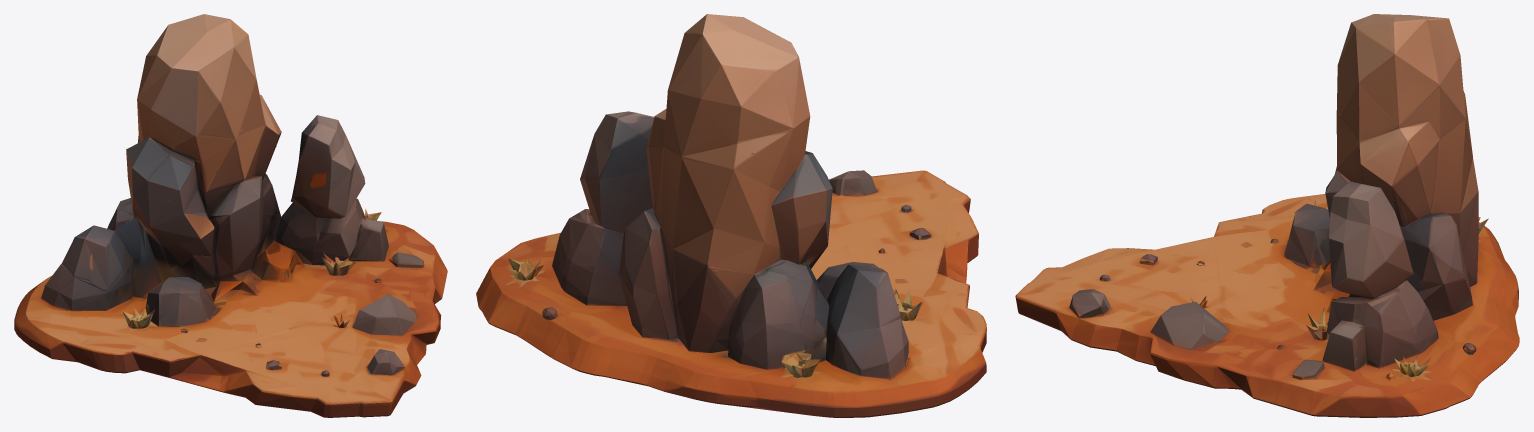
Rendered from stone_1.obj.
3 renders of one model, left to right at view 1: azimuth 30°, elevation 25°; view 2: azimuth 150°, elevation 25°; view 3: azimuth 270°, elevation 25°, orthographic. The views are drawn at different scales.
Visible parts, largest first — view 1: texture_pbr_v128; view 2: texture_pbr_v128; view 3: texture_pbr_v128.
Boxes of the visible parts, x1,y1,x2,y2 form: texture_pbr_v128: (14,14,447,417); texture_pbr_v128: (476,14,986,417); texture_pbr_v128: (1015,14,1519,417).
Size of the model in its own units: 1.89 by 1.24 by 1.9.
1 material, 1 textured.
